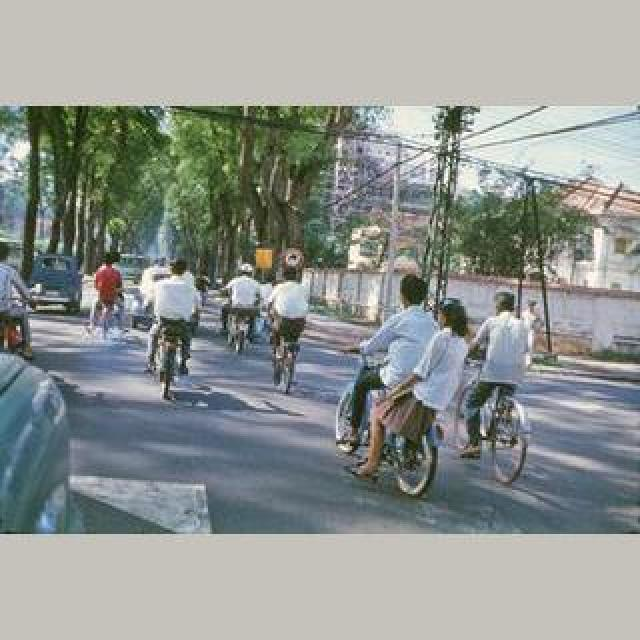MC-Bike: (334, 272, 440, 476), (370, 296, 470, 490), (462, 290, 532, 458), (150, 258, 198, 390), (268, 264, 310, 386), (220, 266, 264, 350), (92, 256, 124, 336)
Person: (338, 360, 454, 500), (456, 382, 532, 488), (154, 324, 188, 400), (270, 336, 300, 394)
Person-Bike: (28, 254, 84, 314)
